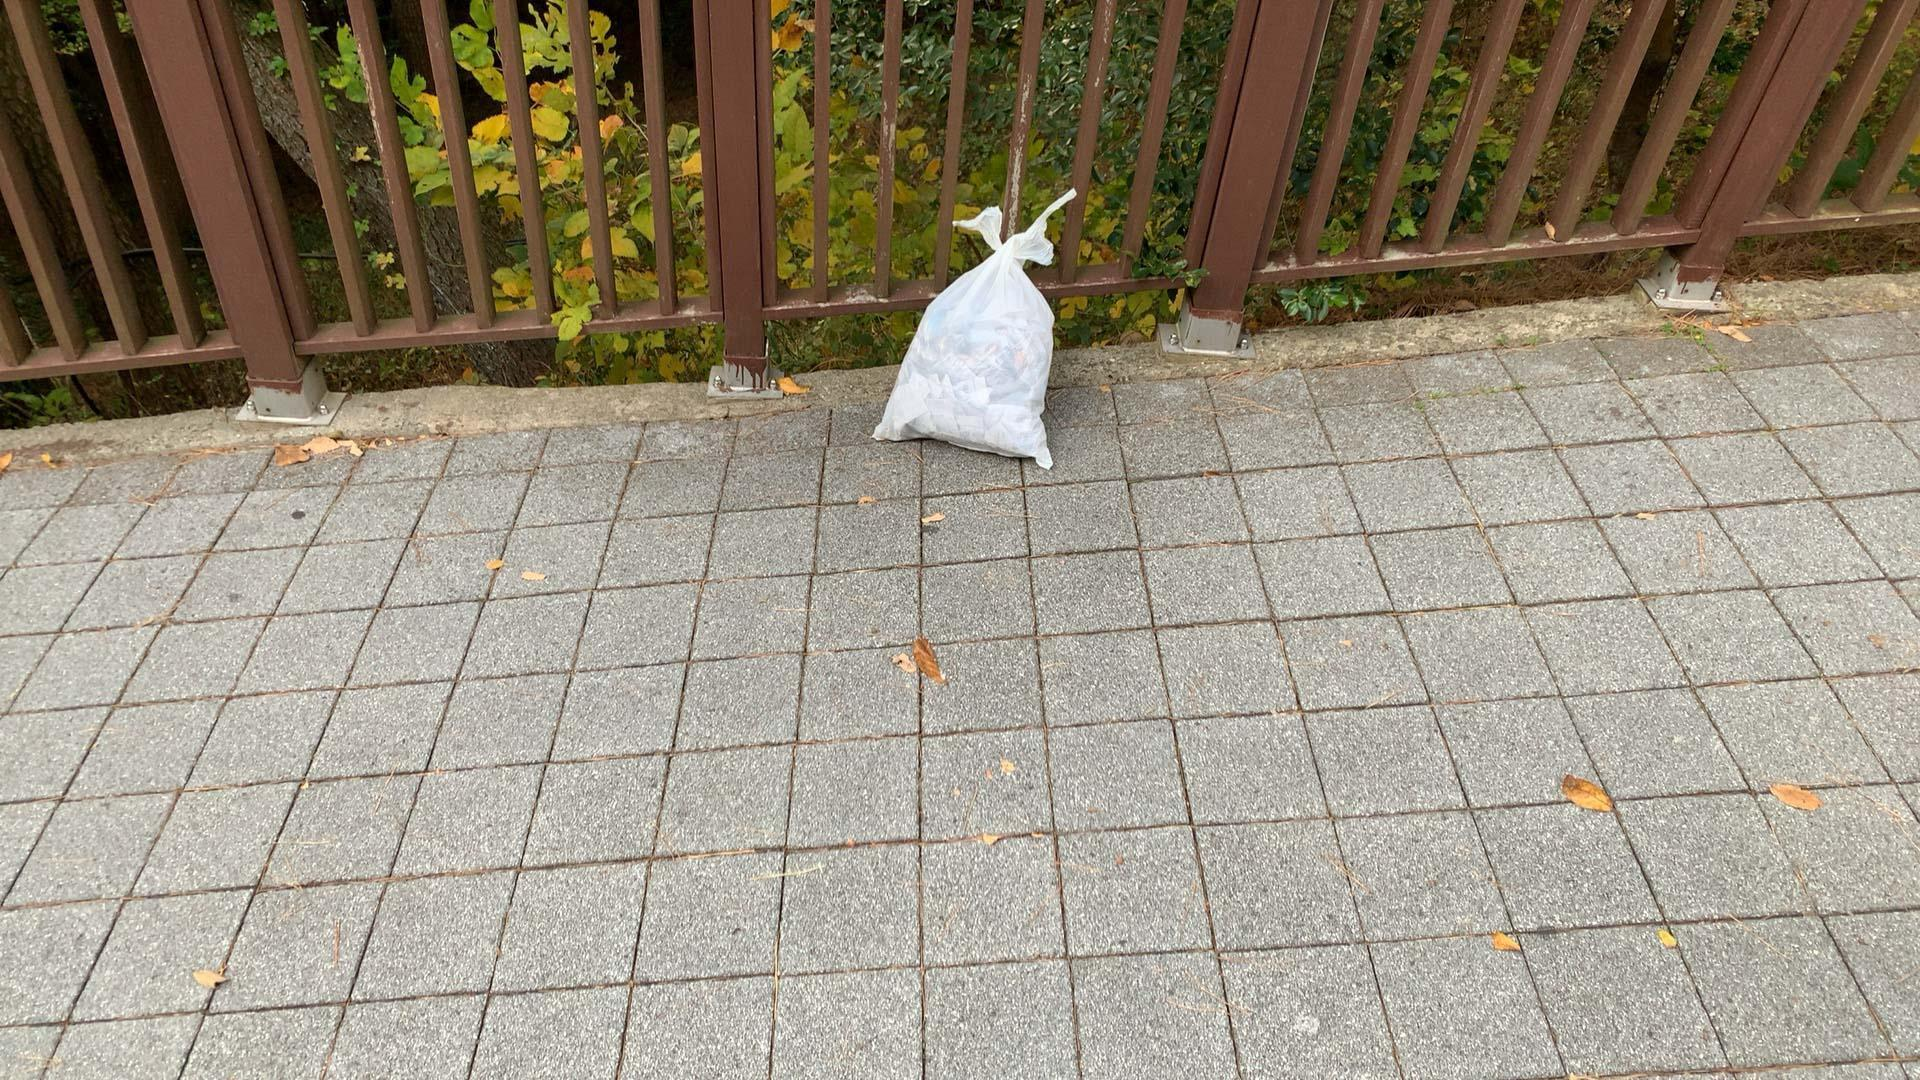white_bag: (862, 169, 1077, 487)
